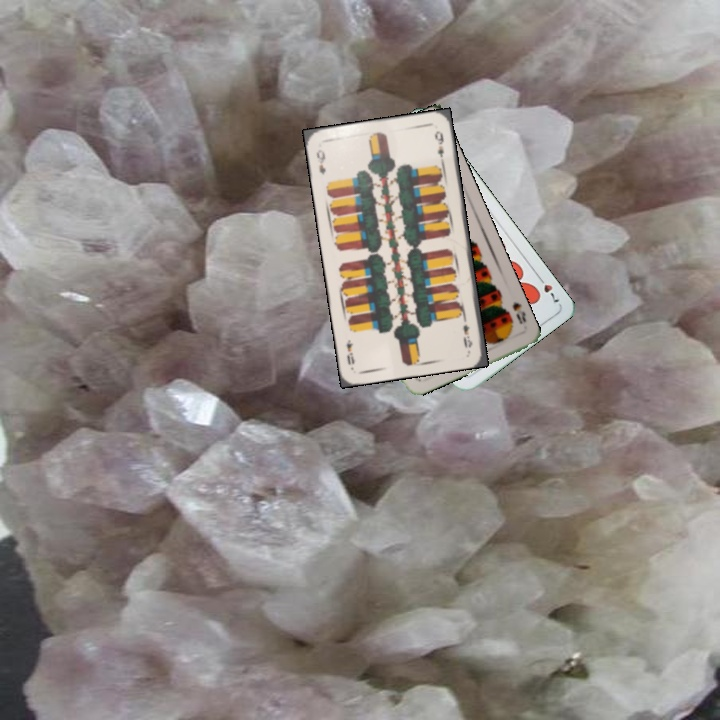E9: (459, 312, 475, 350), (312, 146, 328, 177)
H7: (533, 271, 562, 305)
S8: (508, 297, 529, 326)
